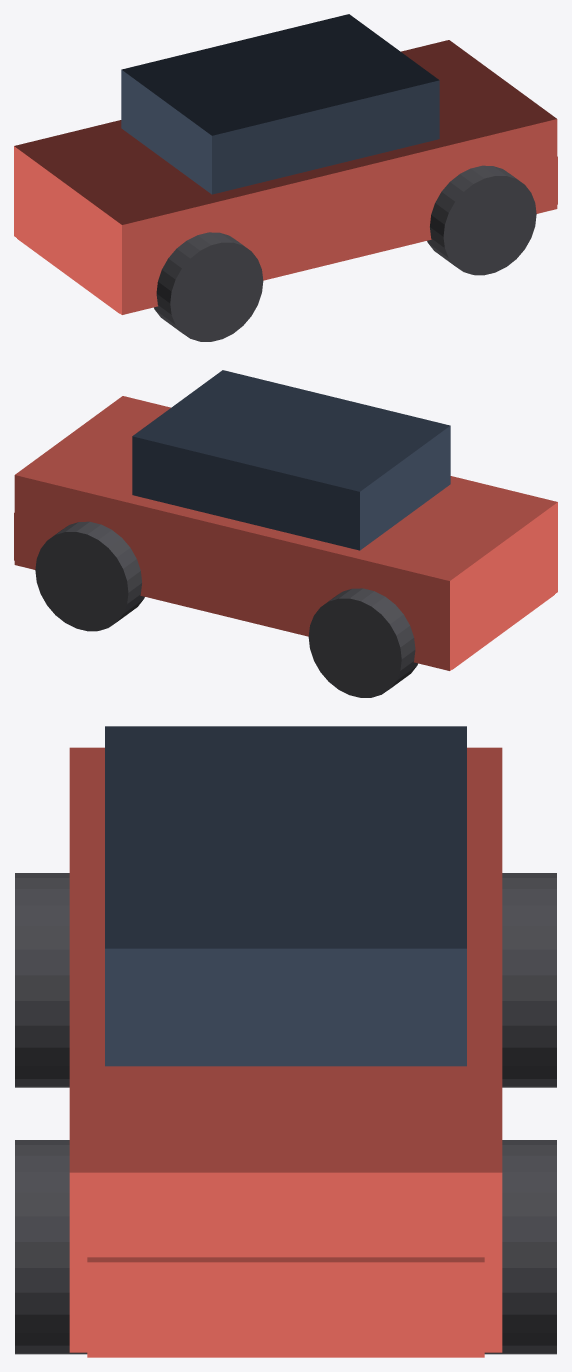
File: car_v2.glb
3 renders of one model, top to bottom at view 1: azimuth 30°, elevation 25°; view 2: azimuth 150°, elevation 25°; view 3: azimuth 270°, elevation 25°, orthographic. The views are drawn at different scales.
Parts seen in each view (by area): view 1: CarRoot; view 2: CarRoot; view 3: CarRoot.
Boxes of the visible parts, <box> form: CarRoot: <box>14,14,557,341</box>; CarRoot: <box>14,370,557,697</box>; CarRoot: <box>15,726,556,1357</box>.
Bounding box in the file's own units: 4.35 × 1.74 × 2.32.
